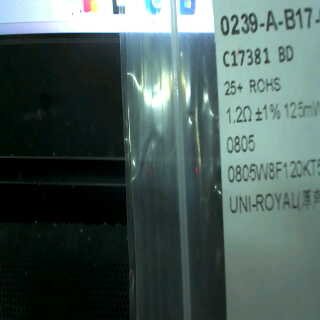1.2R: (223, 108, 258, 158)
